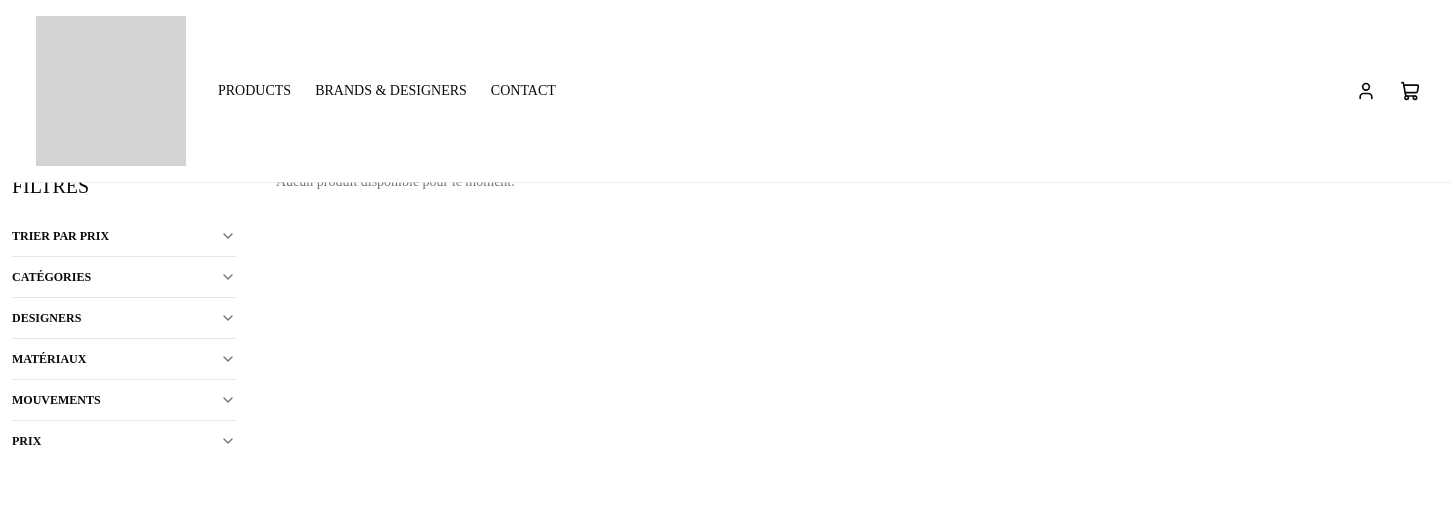
Test: ShopAllPage › lists every material as a filter checkbox
The width and height of the screenshot is (1452, 532).
Click the button "Matériaux". click: click(124, 359)
box: [12,339,236,379]
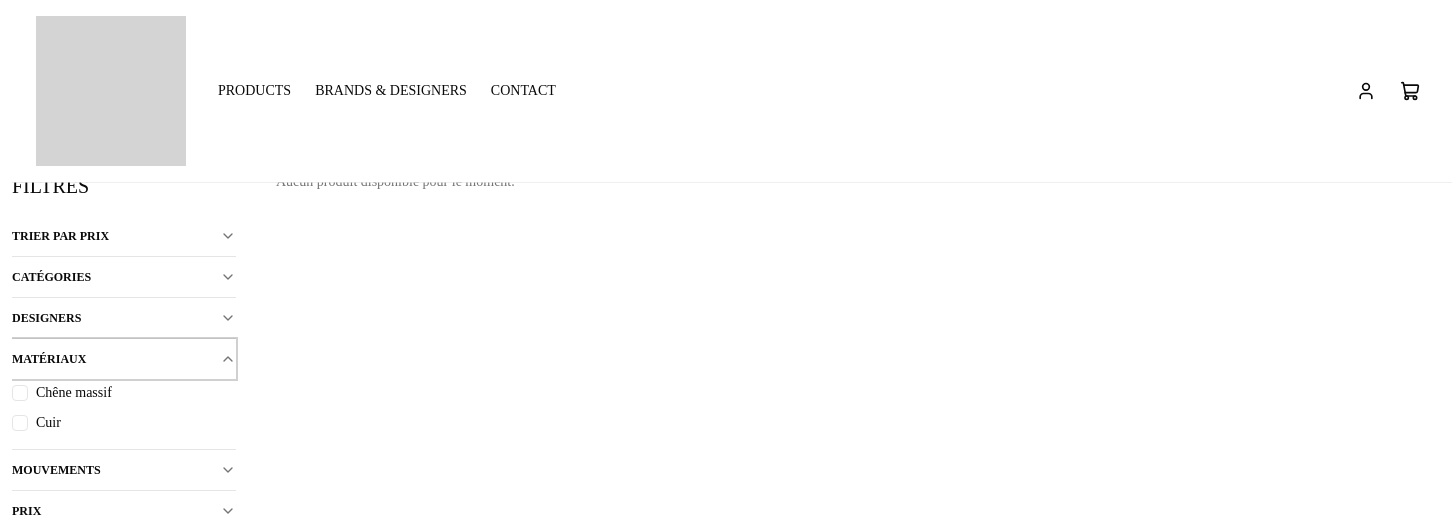
Expected: the checkbox named "Cuir" next to "Cuir" is shown, [12,415,28,431]
Expected: the checkbox named "Chêne massif" next to "Chêne massif" is shown, [12,385,28,401]
